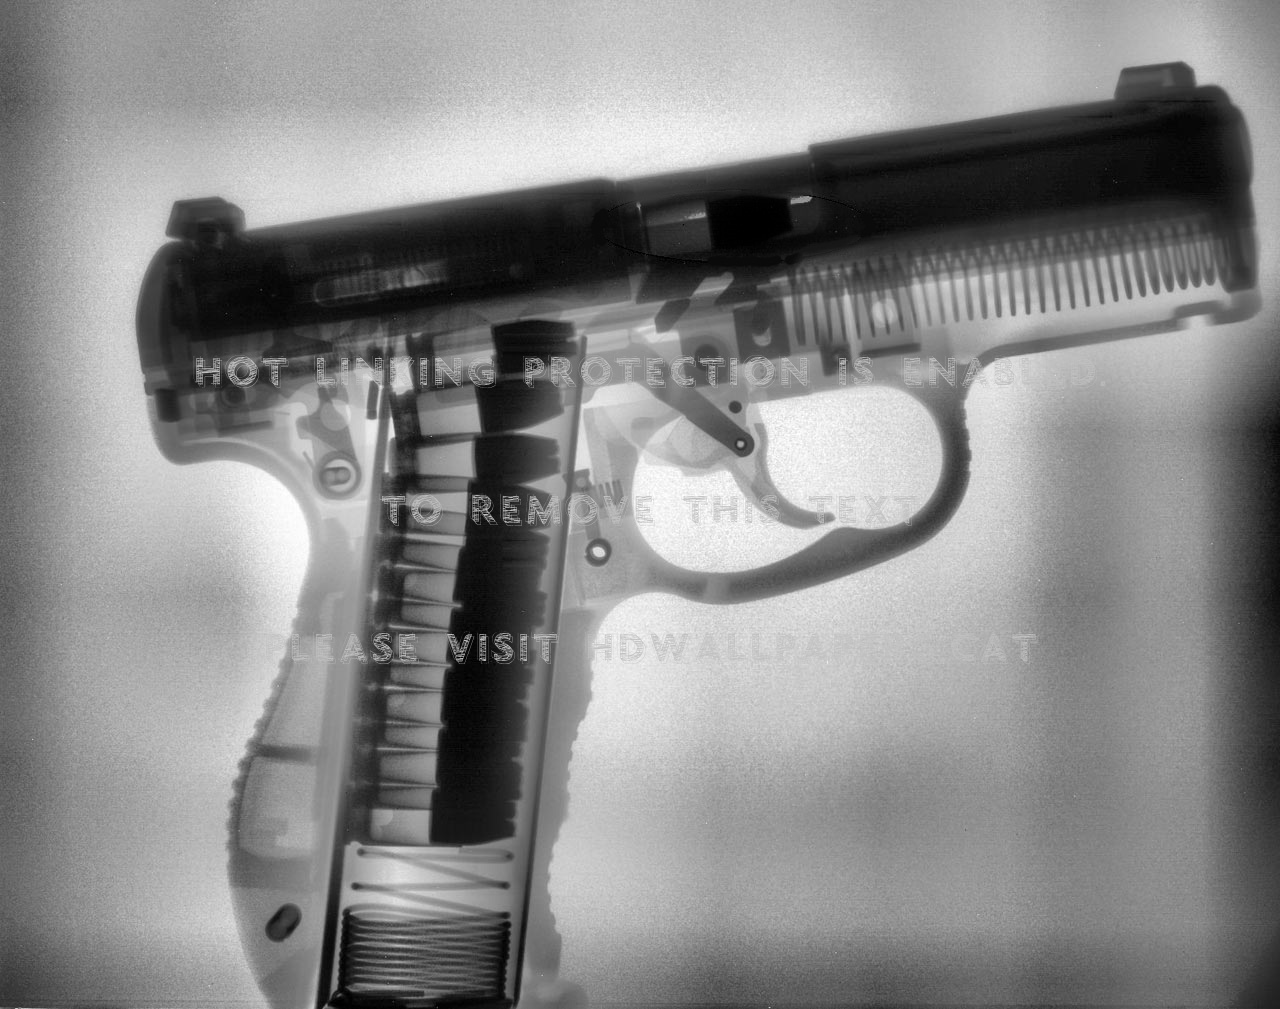gun: (121, 50, 1269, 1009)
